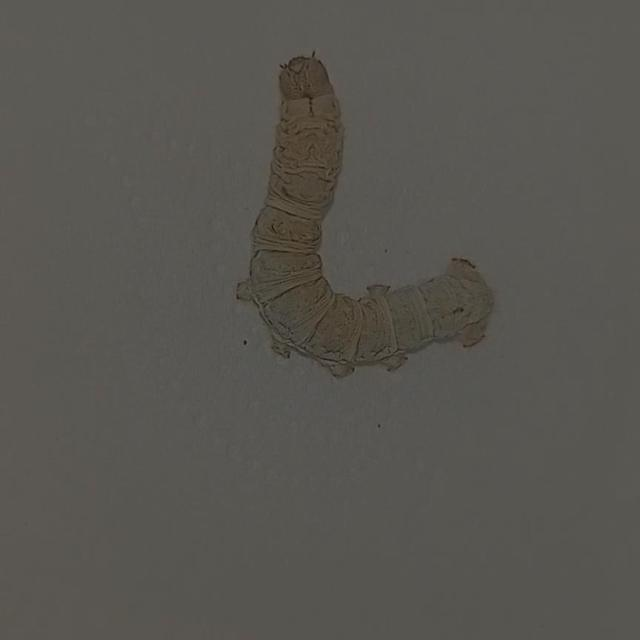Healthy: (221, 31, 506, 388)
